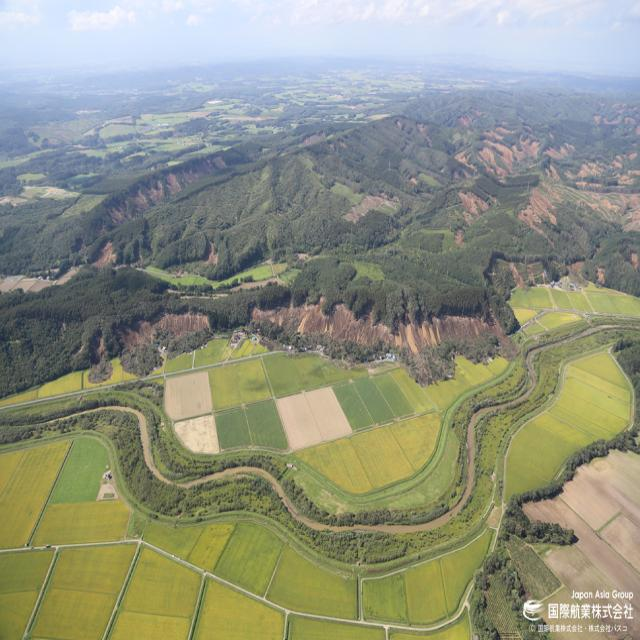Debris-flow: (0, 268, 79, 292)
